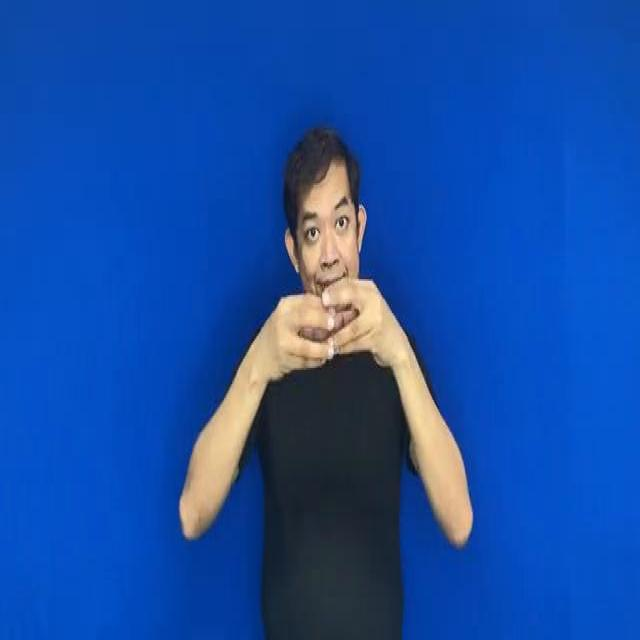egg: (261, 265, 397, 391)
